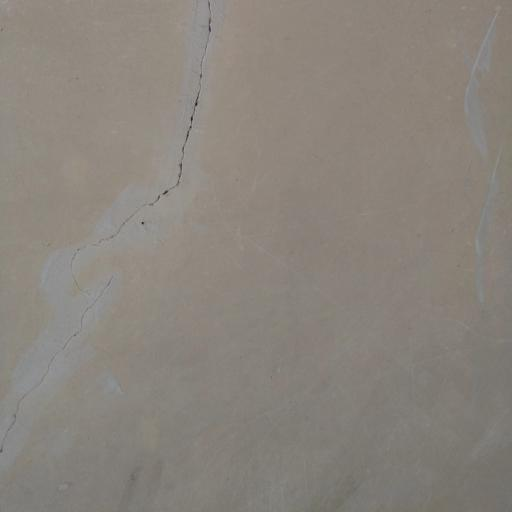minor_crack: (12, 0, 230, 491)
